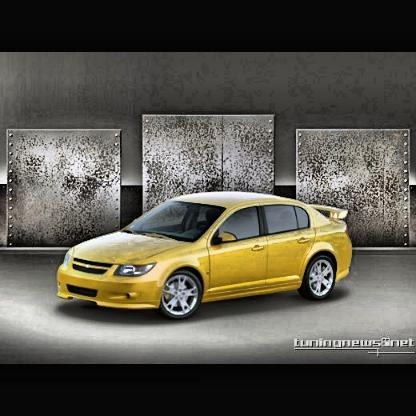Chevrolet Cobalt SS 2010: (56, 192, 356, 323)
